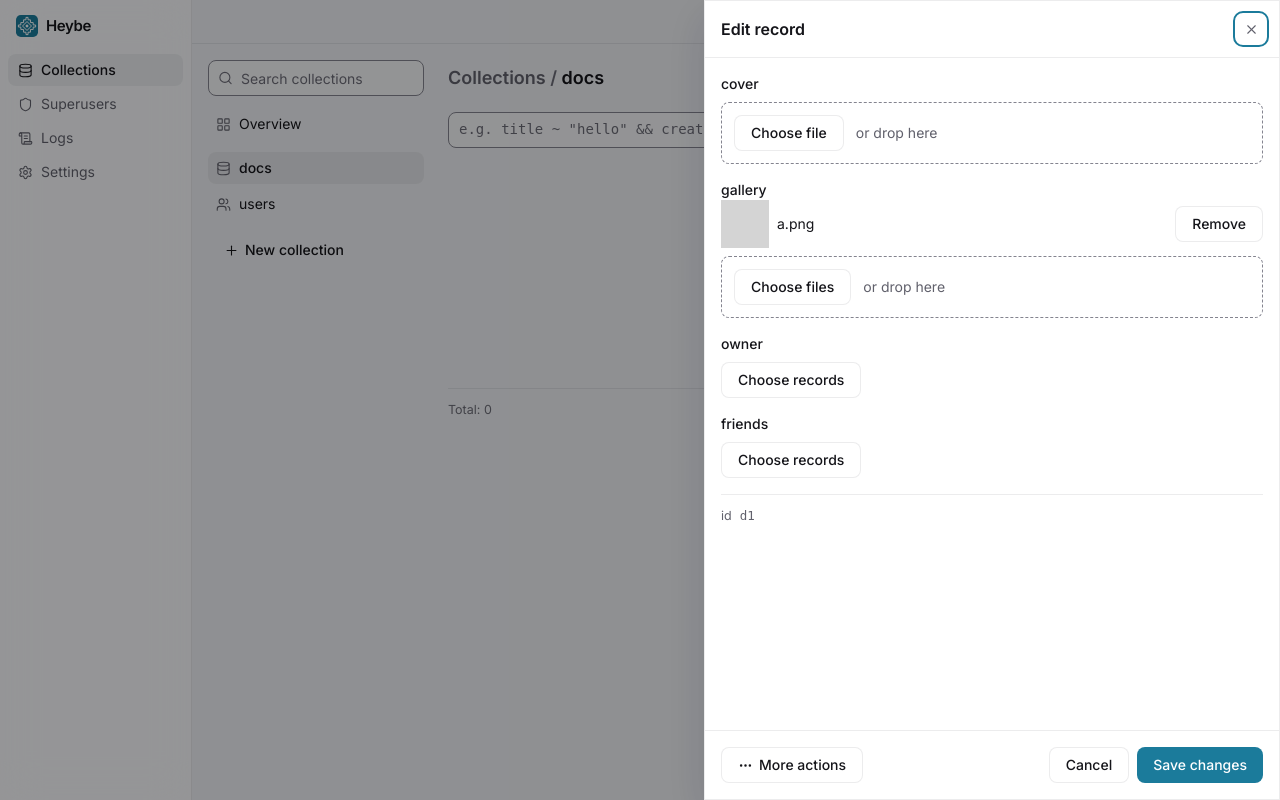
Test: restoring a removed file sends nothing
The width and height of the screenshot is (1280, 800).
Expected: the dialog is shown, [704,0,1279,799]
Click the button with aria-label "Remove a.png" at (1219, 224), box [1175,206,1263,242]
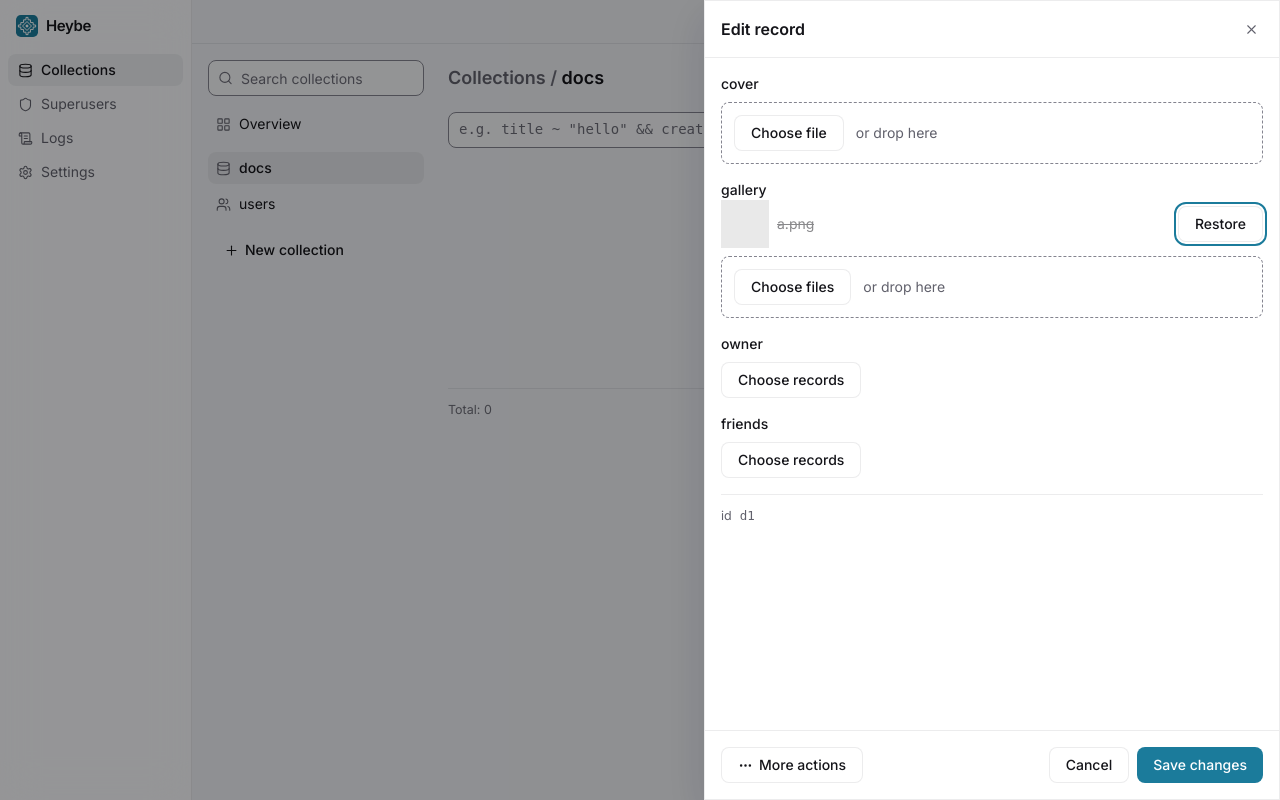
Click the button with aria-label "Restore a.png" at (1220, 224), box [1178,206,1263,242]
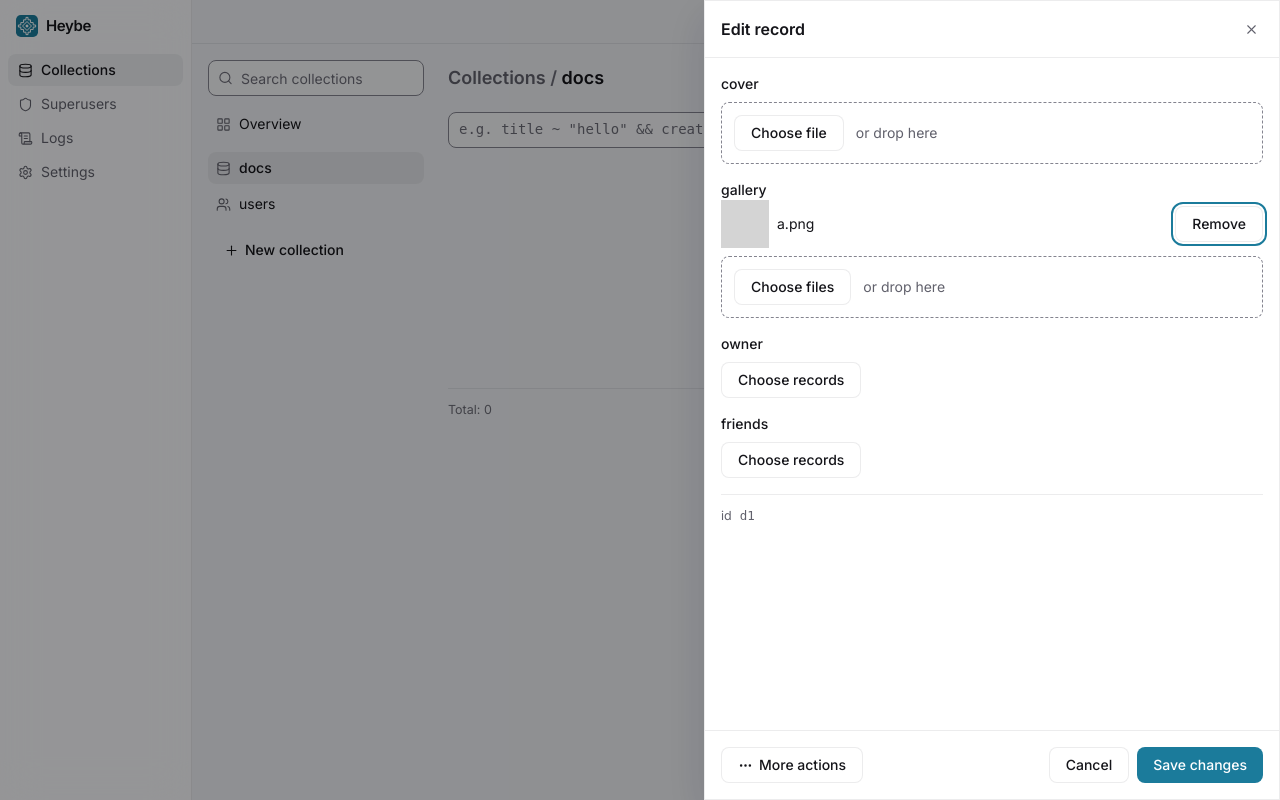
Click the button "Save changes" at (1200, 765), box [1137,747,1263,783]
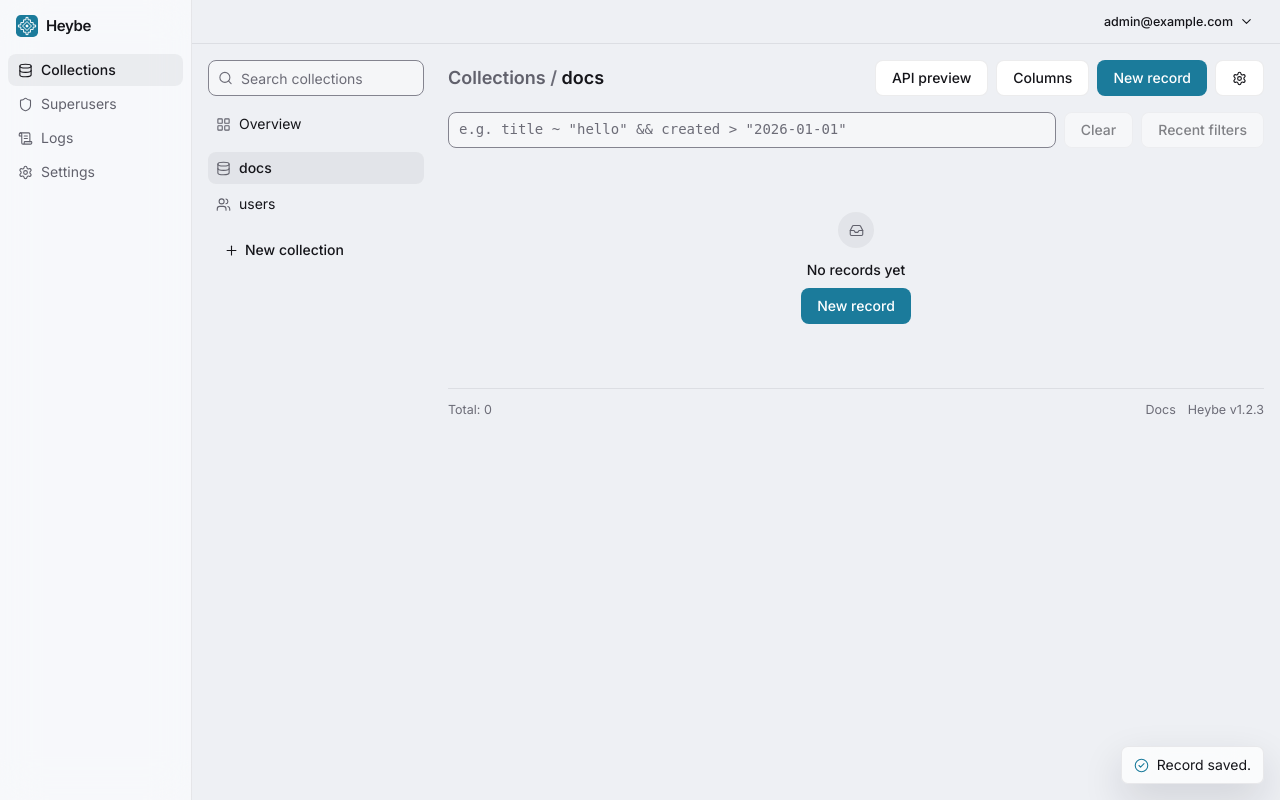
Result: the text "Record saved." is shown at [1121,746,1264,784]
